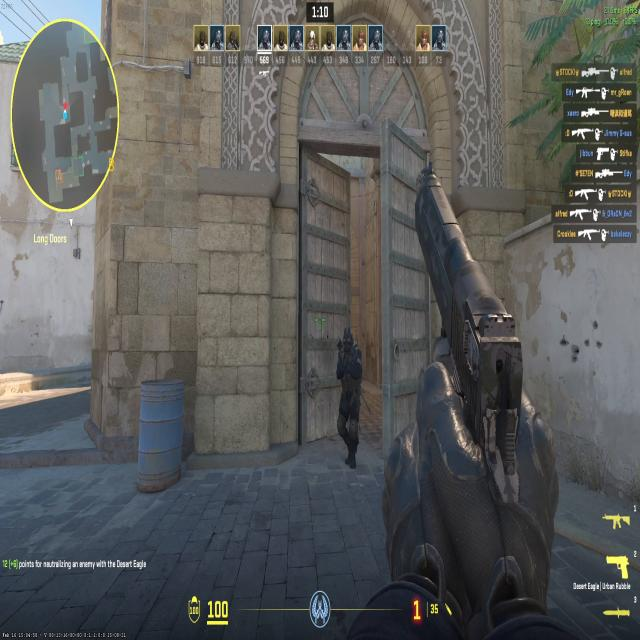player: (330, 328, 367, 469)
